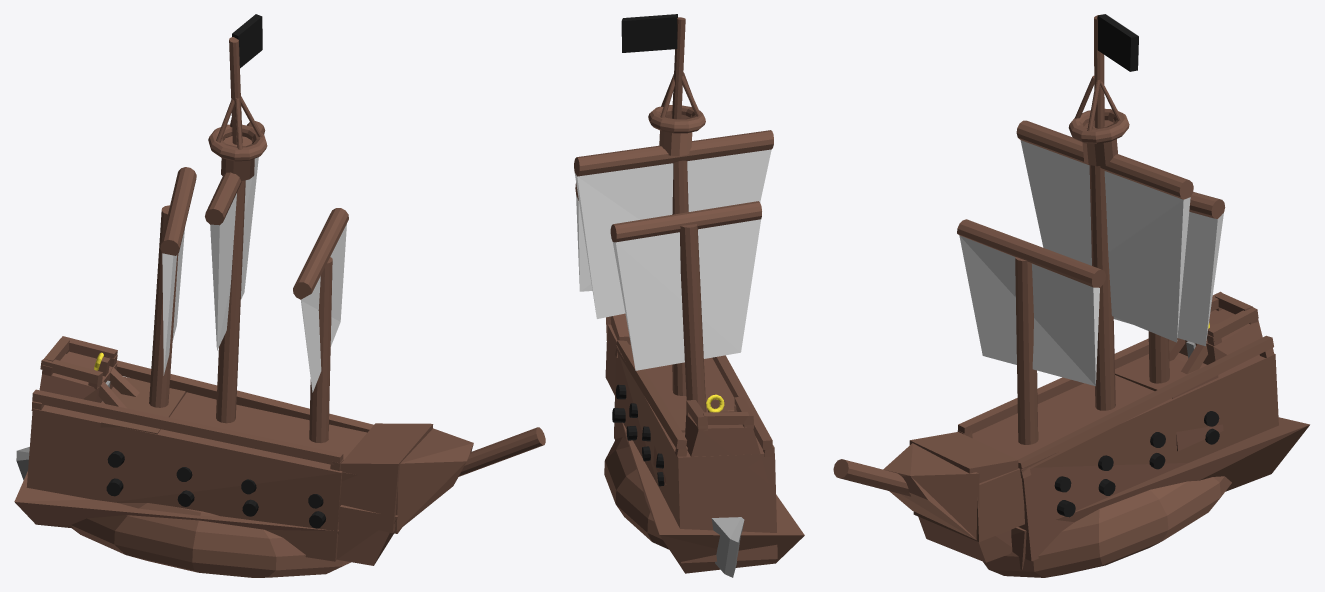
The model's file is scene_nILeYIqabc.glb.
3 renders of one model, left to right at view 1: azimuth 30°, elevation 25°; view 2: azimuth 150°, elevation 25°; view 3: azimuth 270°, elevation 25°, orthographic. The views are drawn at different scales.
Visible parts, largest first — view 1: group970421097; view 2: group970421097; view 3: group970421097.
Part boxes in pixels (x1,y1,x2,y2): group970421097: (14, 14, 545, 577); group970421097: (574, 14, 804, 577); group970421097: (833, 14, 1309, 577).
Size of the model in its own units: 0.8401 by 1.16 by 0.9306.
